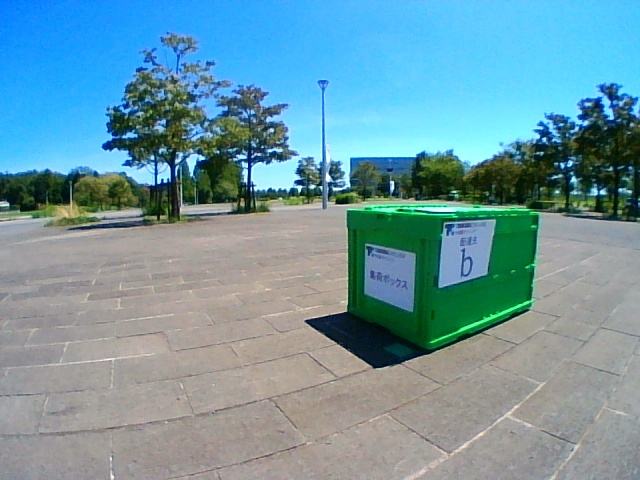green_box: (348, 205, 539, 351)
tag_b: (445, 225, 480, 279)
